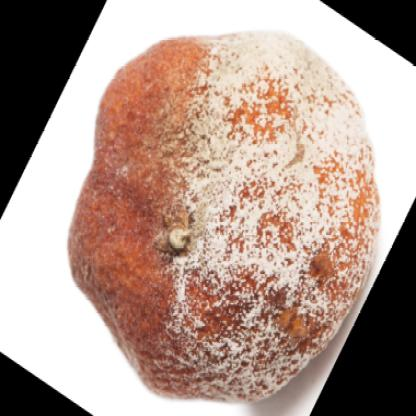rotten: (70, 32, 385, 403)
